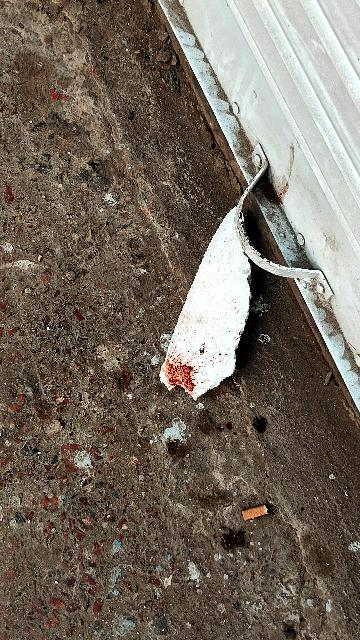cocksheet: (149, 208, 272, 408)
